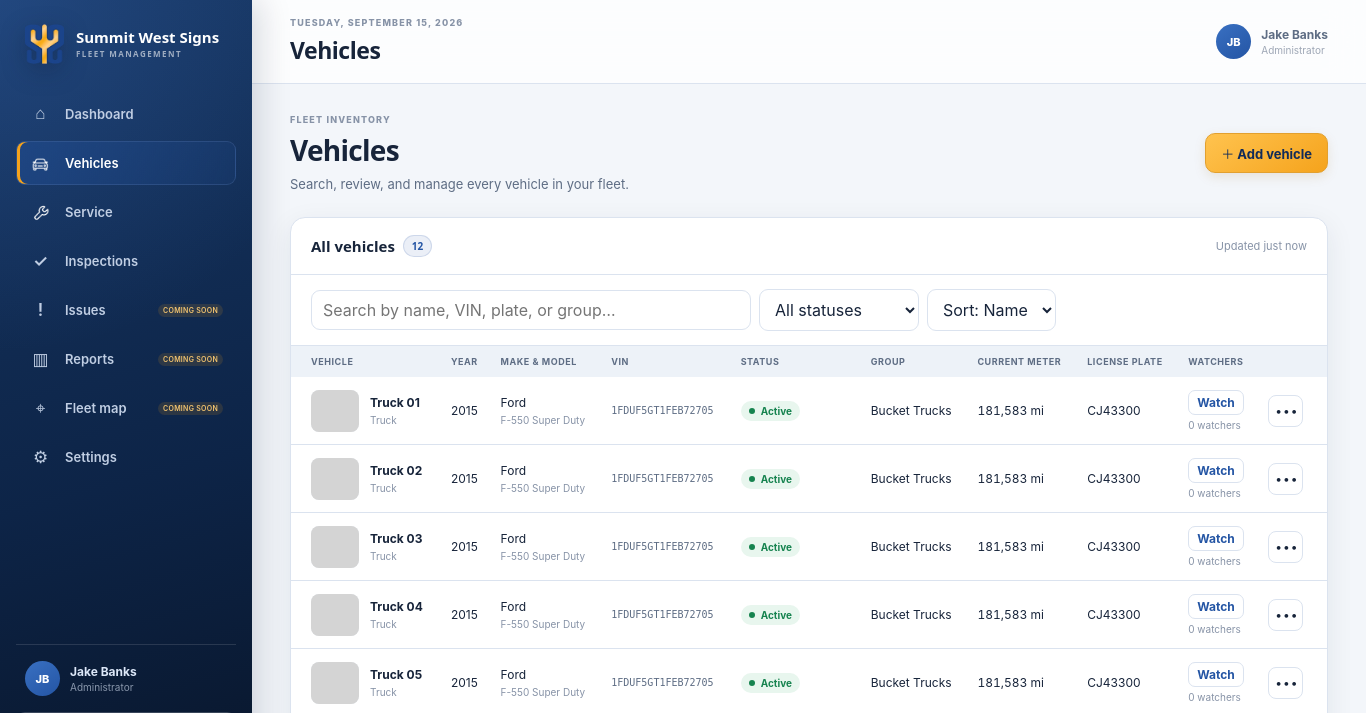
explains an empty search and lets the user clear filters
The width and height of the screenshot is (1366, 713).
Expected: the button with aria-label "Open Truck 01" is shown, [311, 390, 420, 432]
Type "missing" into the field named "Search vehicles" at (531, 310), box [311, 290, 751, 330]
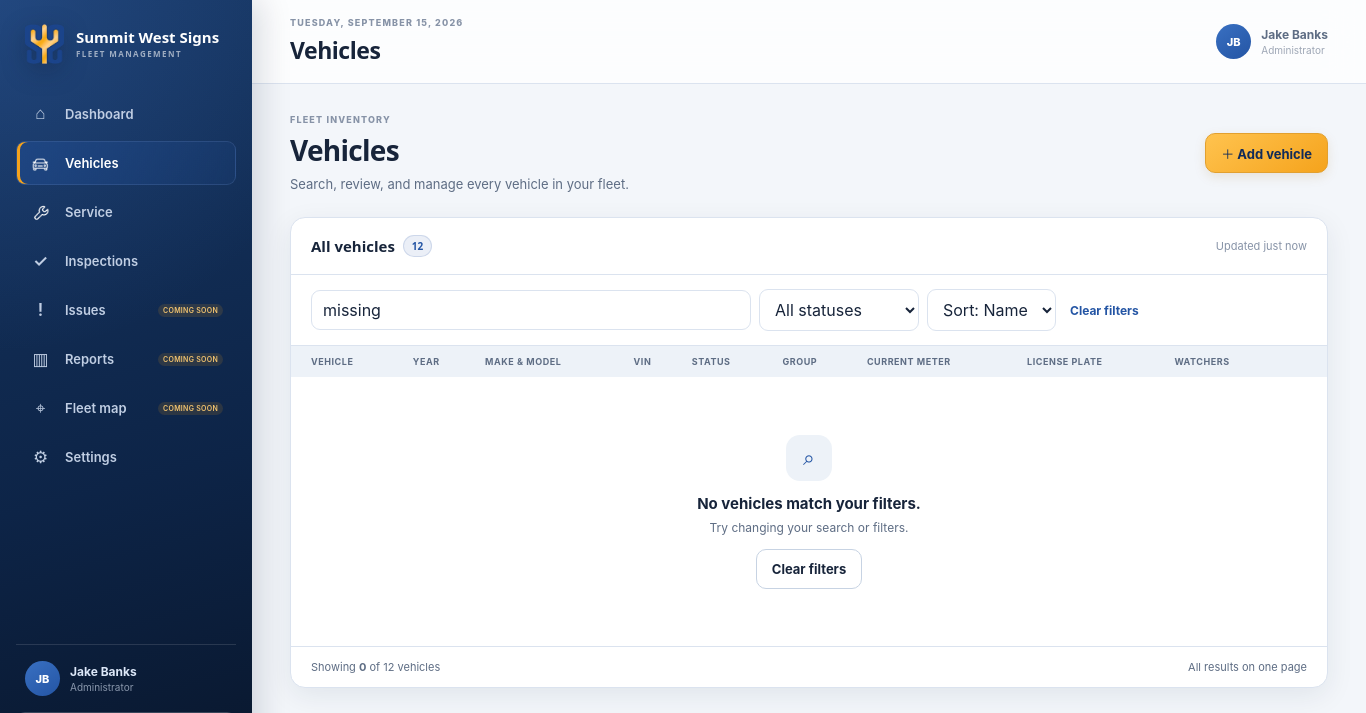
Now the text "No vehicles match your filters." is shown, box [697, 494, 921, 512]
Click the 1st button "Clear filters" at (1104, 310), box [1064, 302, 1145, 318]
(page scrolled)
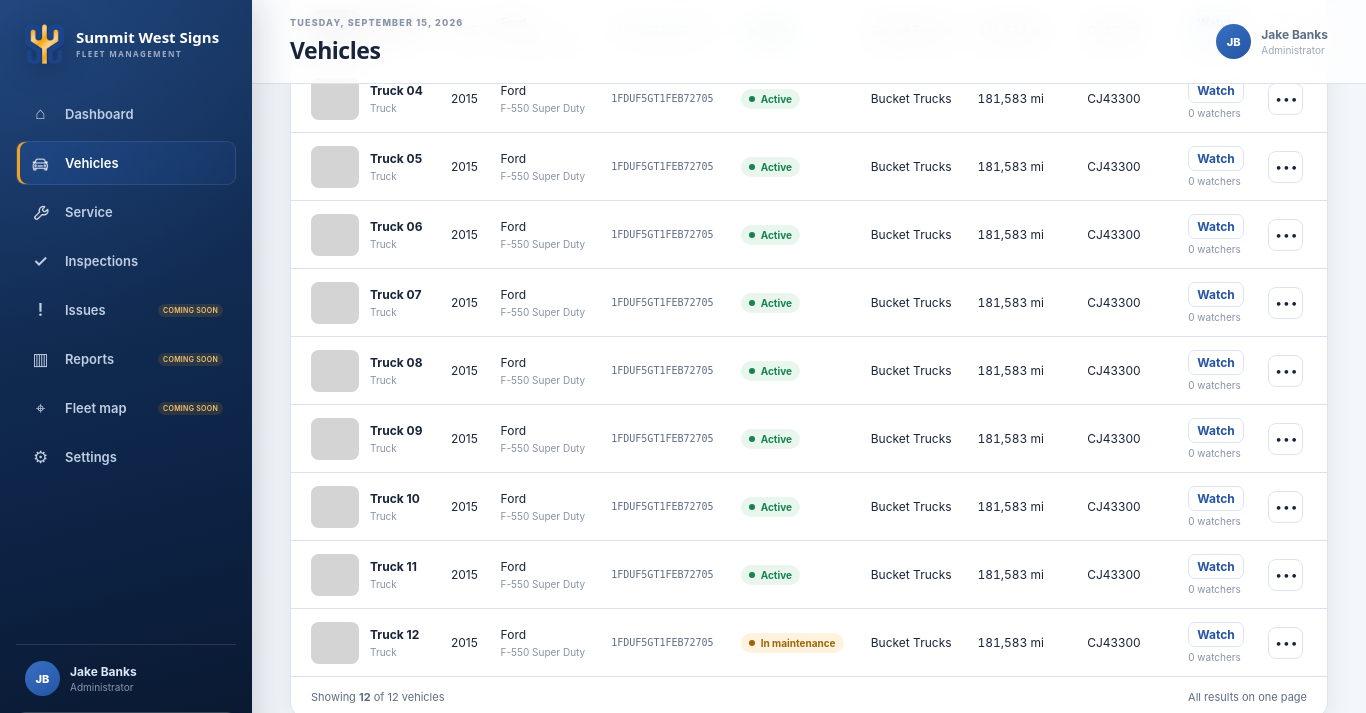
Now the button with aria-label "Open Truck 12" is shown, box [311, 622, 419, 664]
